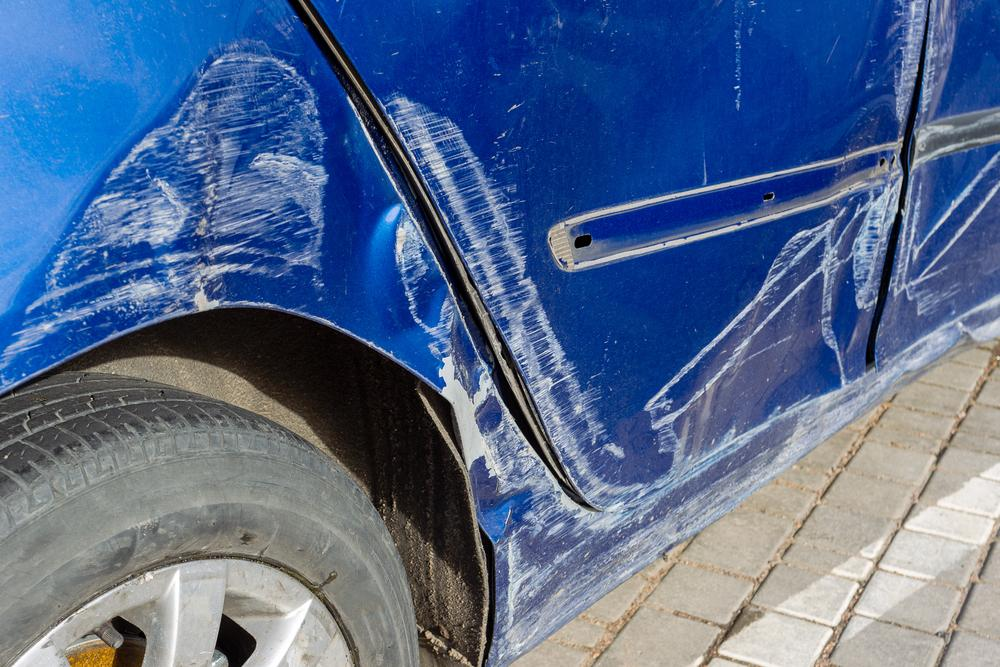dent: (0, 50, 456, 394), (679, 105, 898, 470)
scratch: (449, 293, 1000, 667), (377, 90, 840, 511), (888, 0, 1000, 315), (891, 0, 934, 126)
